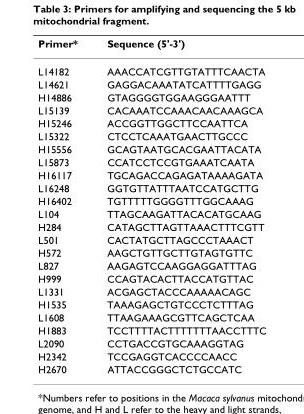table: (37, 36, 265, 374)
table column: (91, 36, 265, 374), (37, 36, 91, 374)
table column header: (37, 36, 265, 57)
table row: (37, 36, 265, 57), (37, 57, 265, 77), (37, 77, 265, 90), (37, 90, 265, 103), (37, 103, 265, 116), (37, 116, 265, 129), (37, 129, 265, 142), (37, 142, 265, 155), (37, 155, 265, 168), (37, 168, 265, 181), (37, 181, 265, 194), (37, 206, 265, 219), (37, 219, 265, 232), (37, 232, 265, 245), (37, 245, 265, 258), (37, 258, 265, 271), (37, 271, 265, 284), (37, 284, 265, 297), (37, 297, 265, 310), (37, 310, 265, 323), (37, 323, 265, 336), (37, 336, 265, 349), (37, 349, 265, 362), (37, 194, 265, 206), (37, 362, 265, 374)
